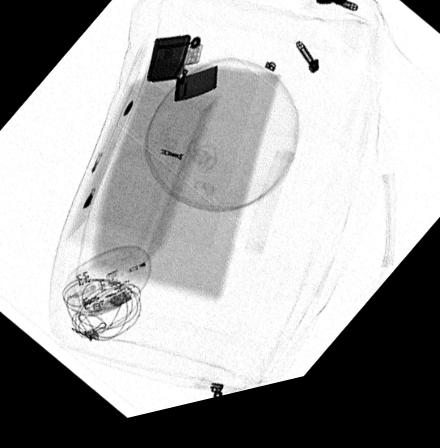Lighter: (145, 42, 217, 109)
